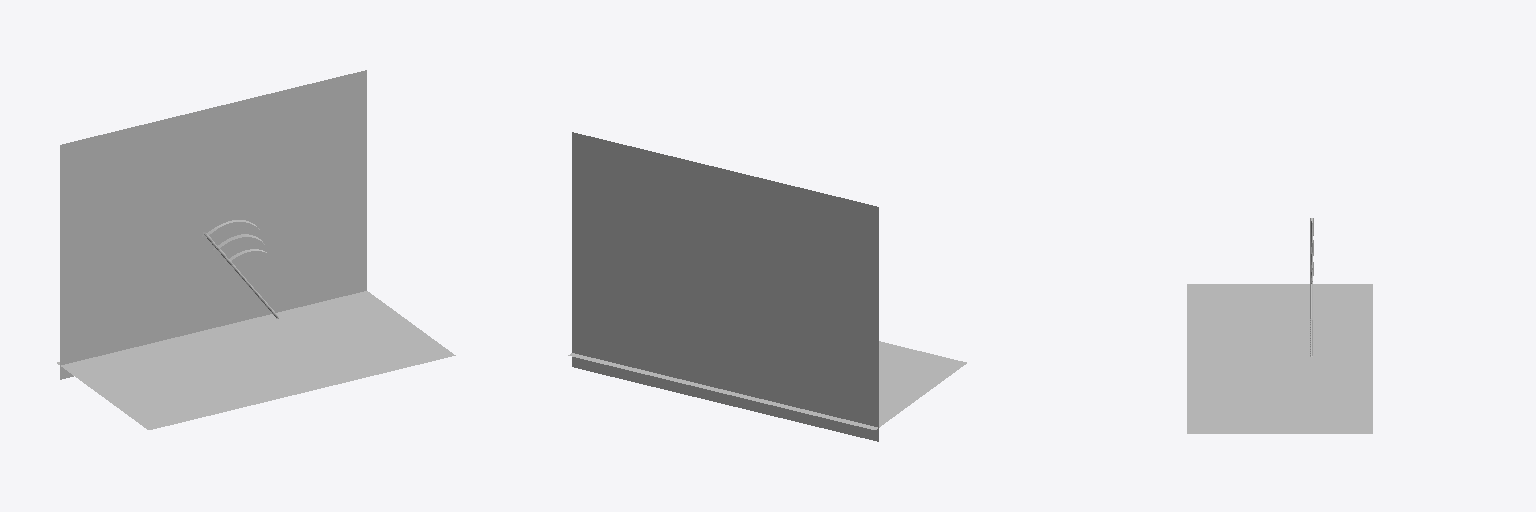
Rendered from hidan_scythe.obj.
3 views of the same model, side by side, from view 1: azimuth 30°, elevation 25°; view 2: azimuth 150°, elevation 25°; view 3: azimuth 270°, elevation 25° (orthographic).
Parts seen in each view (by area): view 1: Plane.001_Plane.003, Plane_Plane.002, Handle_Cylinder.003; view 2: Plane.001_Plane.003, Plane_Plane.002; view 3: Plane_Plane.002.
Boxes of the visible parts, box(x1,y1,x2,y2) form: Plane.001_Plane.003: box(60, 70, 366, 379); Plane_Plane.002: box(57, 291, 455, 429); Handle_Cylinder.003: box(202, 220, 278, 318); Plane.001_Plane.003: box(572, 132, 878, 441); Plane_Plane.002: box(568, 341, 966, 429); Plane_Plane.002: box(1187, 284, 1372, 433).
Bounding box in the file's own units: 35.66 × 26.08 × 18.61.